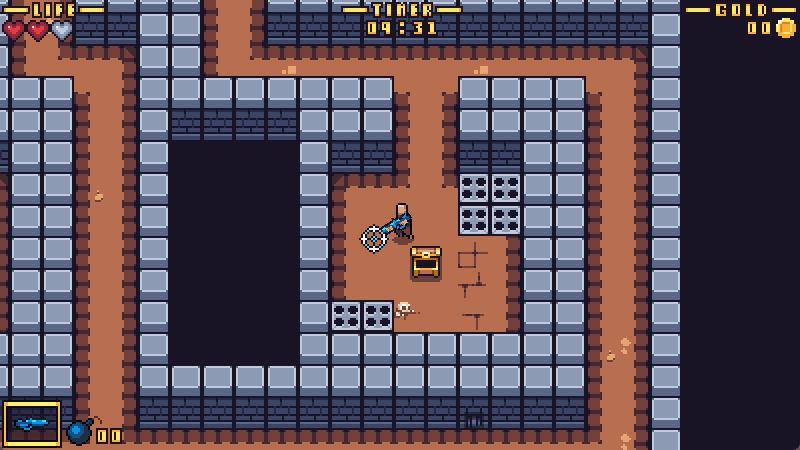aim: (359, 225, 390, 254)
bomb_counter_0: (65, 414, 123, 450)
gold_counter: (686, 1, 799, 41)
health-2: (1, 18, 77, 44)
player: (382, 202, 415, 241)
timer: (343, 1, 462, 38)
trap_off: (459, 172, 524, 237), (330, 301, 395, 332)
treasury_open: (409, 245, 442, 278)
